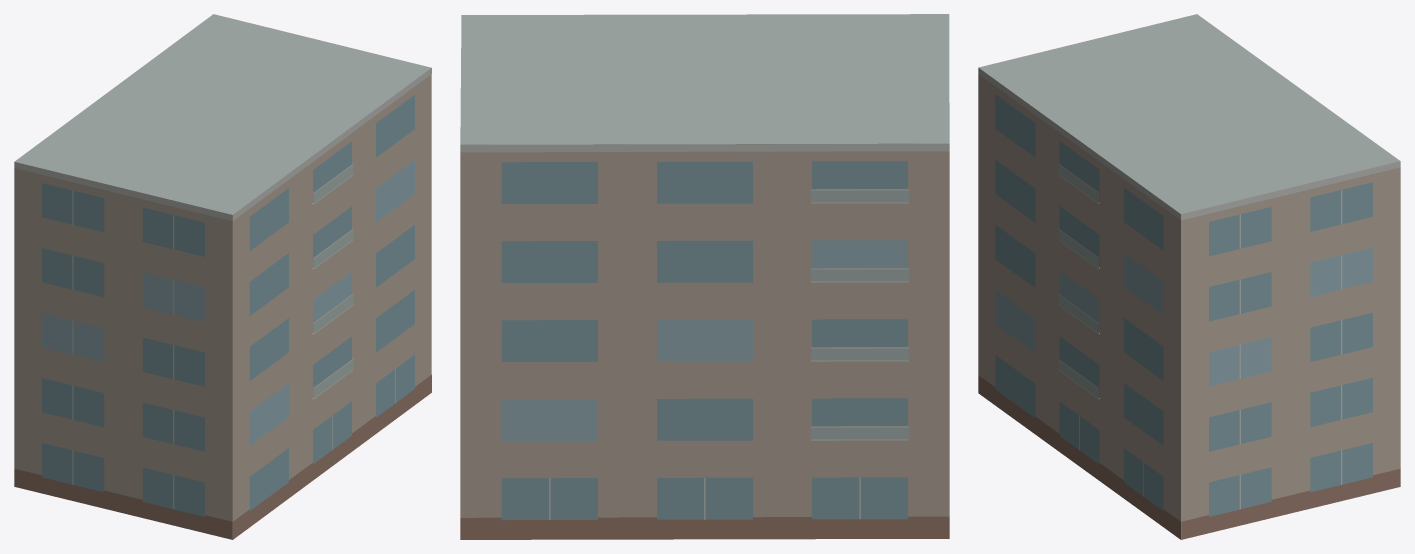
The model's file is survey-upis-32696154.glb.
3 renders of one model, left to right at view 1: azimuth 30°, elevation 25°; view 2: azimuth 150°, elevation 25°; view 3: azimuth 270°, elevation 25°, orthographic. The views are drawn at different scales.
Visible parts, largest first — view 1: survey-upis-32696154.tmp; view 2: survey-upis-32696154.tmp; view 3: survey-upis-32696154.tmp.
Part boxes in pixels (x1,y1,x2,y2): survey-upis-32696154.tmp: (14,14,431,539); survey-upis-32696154.tmp: (460,14,949,539); survey-upis-32696154.tmp: (978,14,1400,539).
Size of the model in its own units: 16.76 by 12.7 by 14.94.
